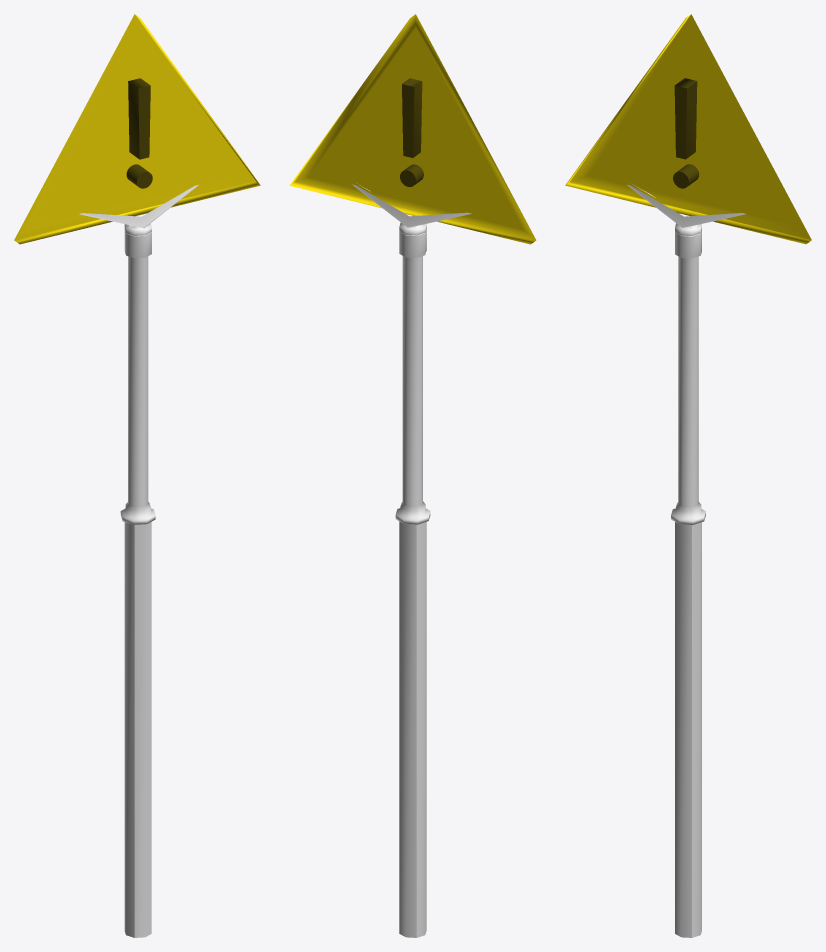
Rendered from gan_tan_hao.glb.
3 renders of one model, left to right at view 1: azimuth 30°, elevation 25°; view 2: azimuth 150°, elevation 25°; view 3: azimuth 330°, elevation 25°, orthographic.
Parts seen in each view (by area): view 1: ____1, _, __, ___1; view 2: ____1, _, ___2, __; view 3: ____1, _, __, ___1.
Part boxes in pixels (bbox=[...]): ____1: bbox=[14, 14, 260, 244]; _: bbox=[79, 185, 198, 937]; __: bbox=[126, 78, 150, 186]; ___1: bbox=[137, 85, 152, 188]; ____1: bbox=[290, 14, 536, 244]; _: bbox=[352, 184, 471, 937]; ___2: bbox=[400, 84, 415, 186]; __: bbox=[402, 78, 423, 184]; ____1: bbox=[565, 14, 811, 244]; _: bbox=[627, 185, 746, 937]; __: bbox=[675, 78, 699, 185]; ___1: bbox=[673, 85, 688, 188].
Bounding box in the file's own units: 1 × 3.63 × 0.1297.
